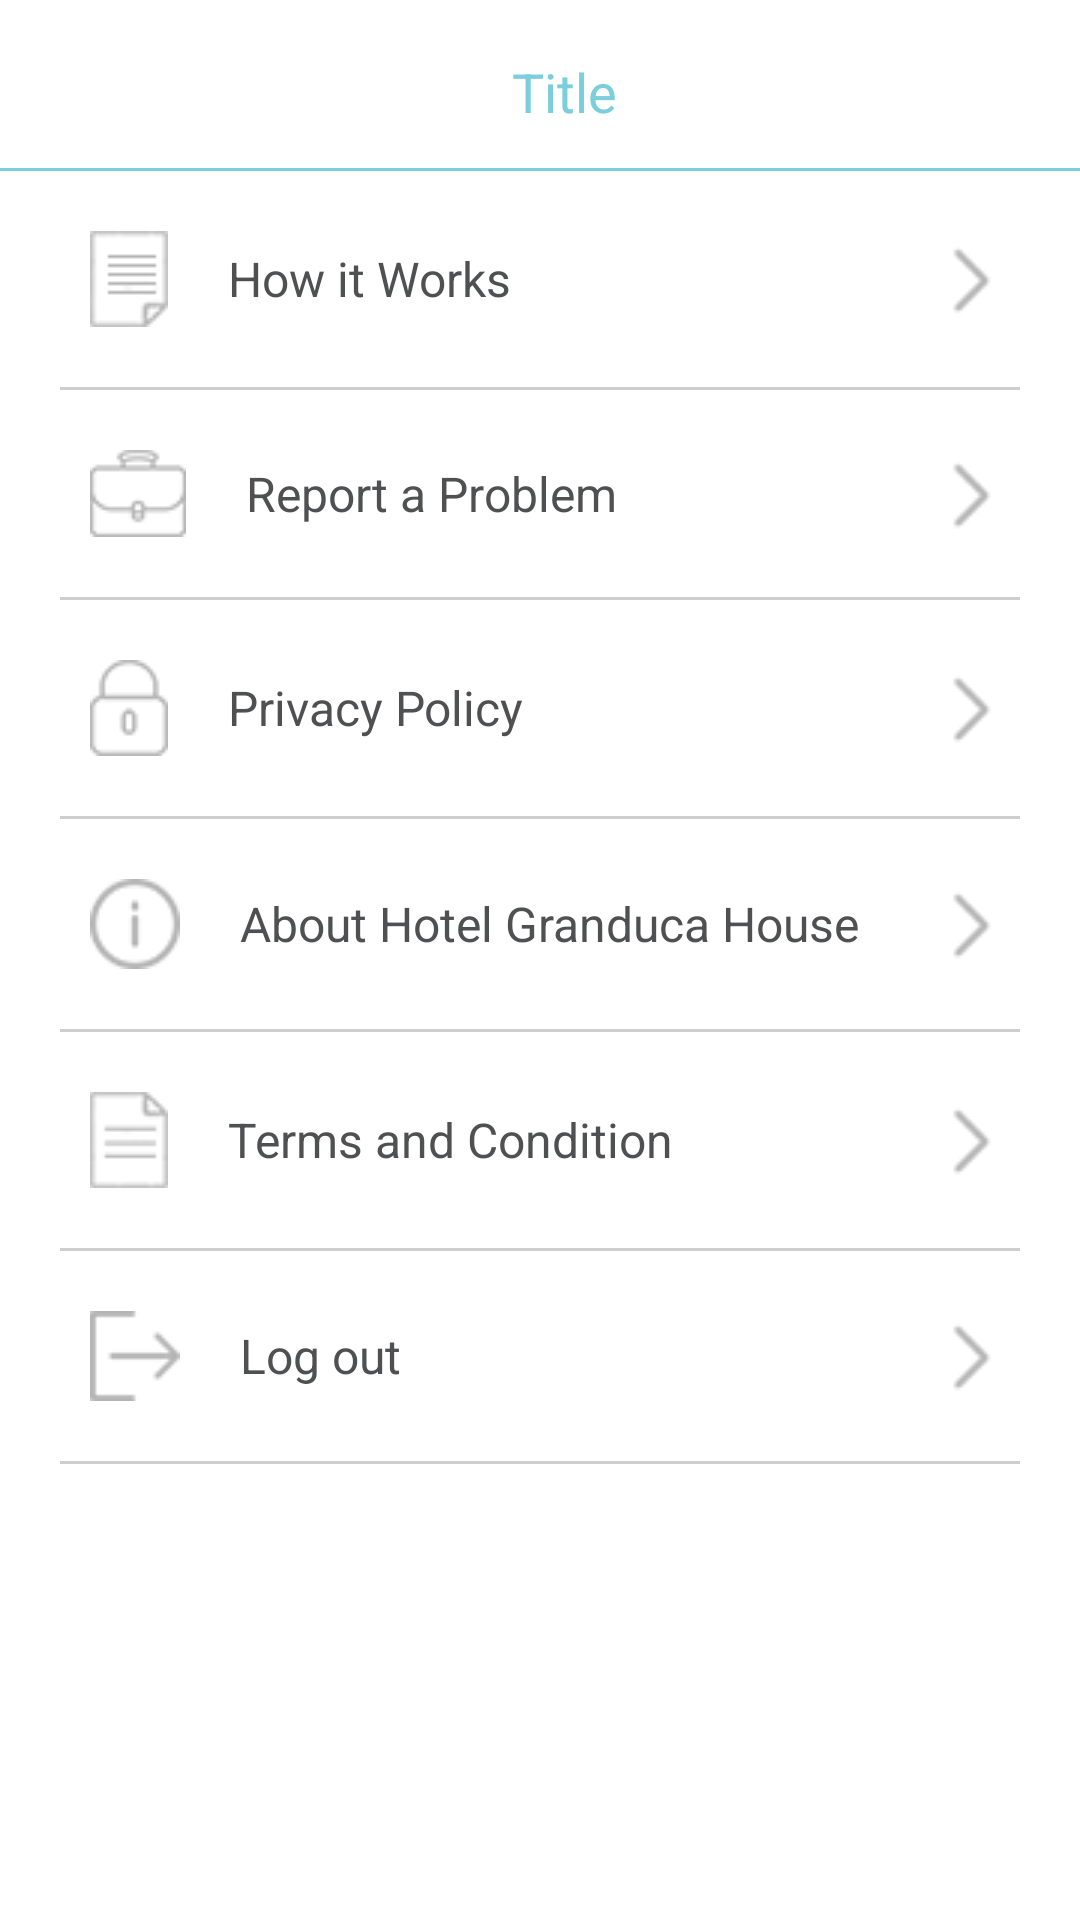

Where to tap for icons on this 1080*1920 app screen, as (x,y):
right arrow: (971,280), (971,495), (971,709), (971,925), (971,1141), (971,1357)
